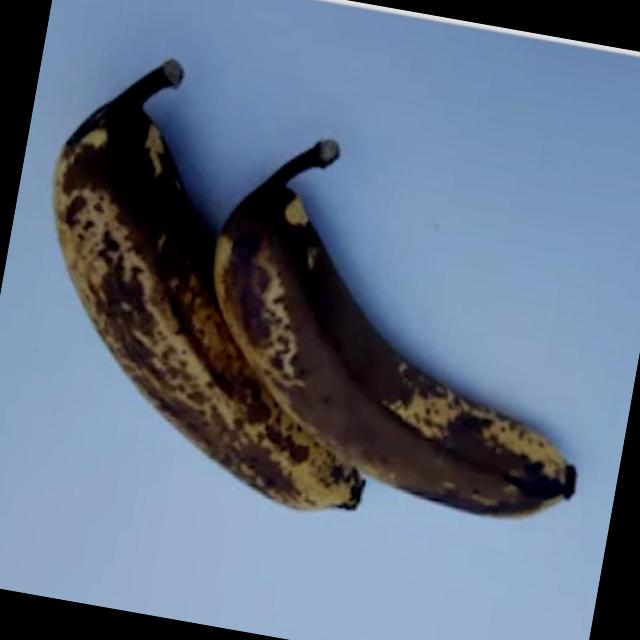Banana: (4, 42, 434, 524), (175, 122, 630, 535)
